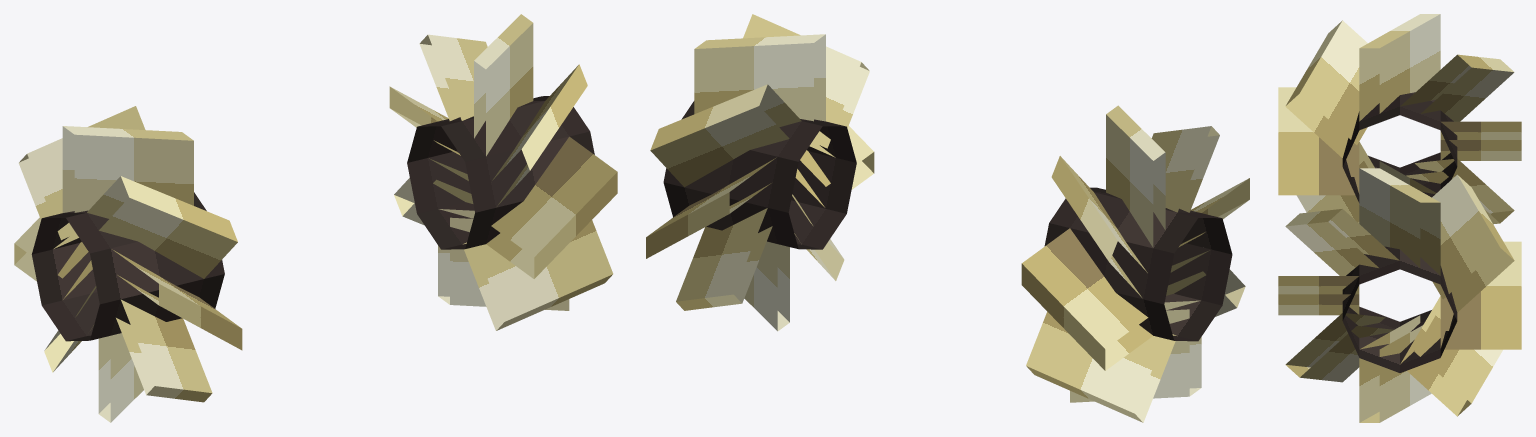
File: actuator_air_fan.obj
The picture shows the model from 3 angles, left to right: view 1: azimuth 30°, elevation 25°; view 2: azimuth 150°, elevation 25°; view 3: azimuth 270°, elevation 25°; orthographic projection. The views are drawn at different scales.
Parts seen in each view (by area): view 1: GALE_PRESSURIZER_FAN_Cube.033; view 2: GALE_PRESSURIZER_FAN_Cube.033; view 3: GALE_PRESSURIZER_FAN_Cube.033.
Part boxes in pixels (box(x1,y1,x2,y2)): GALE_PRESSURIZER_FAN_Cube.033: box(14, 14, 617, 422); GALE_PRESSURIZER_FAN_Cube.033: box(646, 14, 1249, 422); GALE_PRESSURIZER_FAN_Cube.033: box(1278, 14, 1521, 422).
Bounding box in the file's own units: 0.75 × 0.375 × 0.375.
